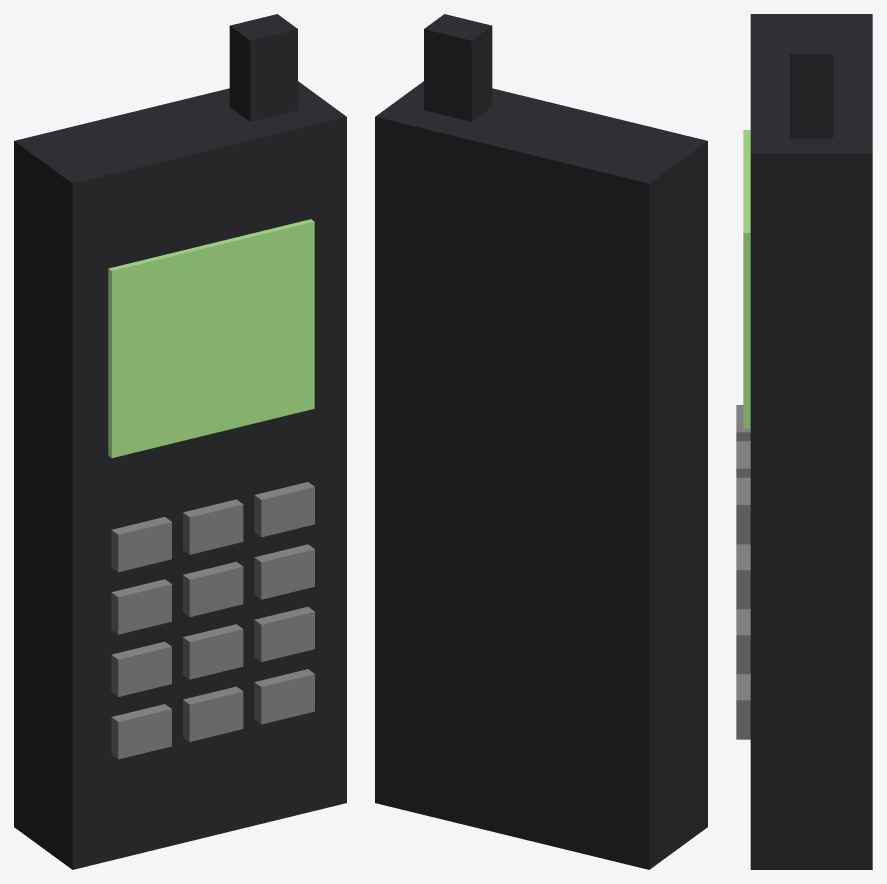
Rendered from dunc-phone.glb.
The picture shows the model from 3 angles, left to right: view 1: azimuth 30°, elevation 25°; view 2: azimuth 150°, elevation 25°; view 3: azimuth 270°, elevation 25°; orthographic projection. The views are drawn at different scales.
Visible parts, largest first — view 1: dunc_phone; view 2: dunc_phone; view 3: dunc_phone.
Part boxes in pixels (x1,y1,x2,y2): dunc_phone: [14, 14, 346, 869]; dunc_phone: [375, 14, 707, 869]; dunc_phone: [736, 14, 872, 869].
Size of the model in its own units: 0.046 by 0.123 by 0.019.
